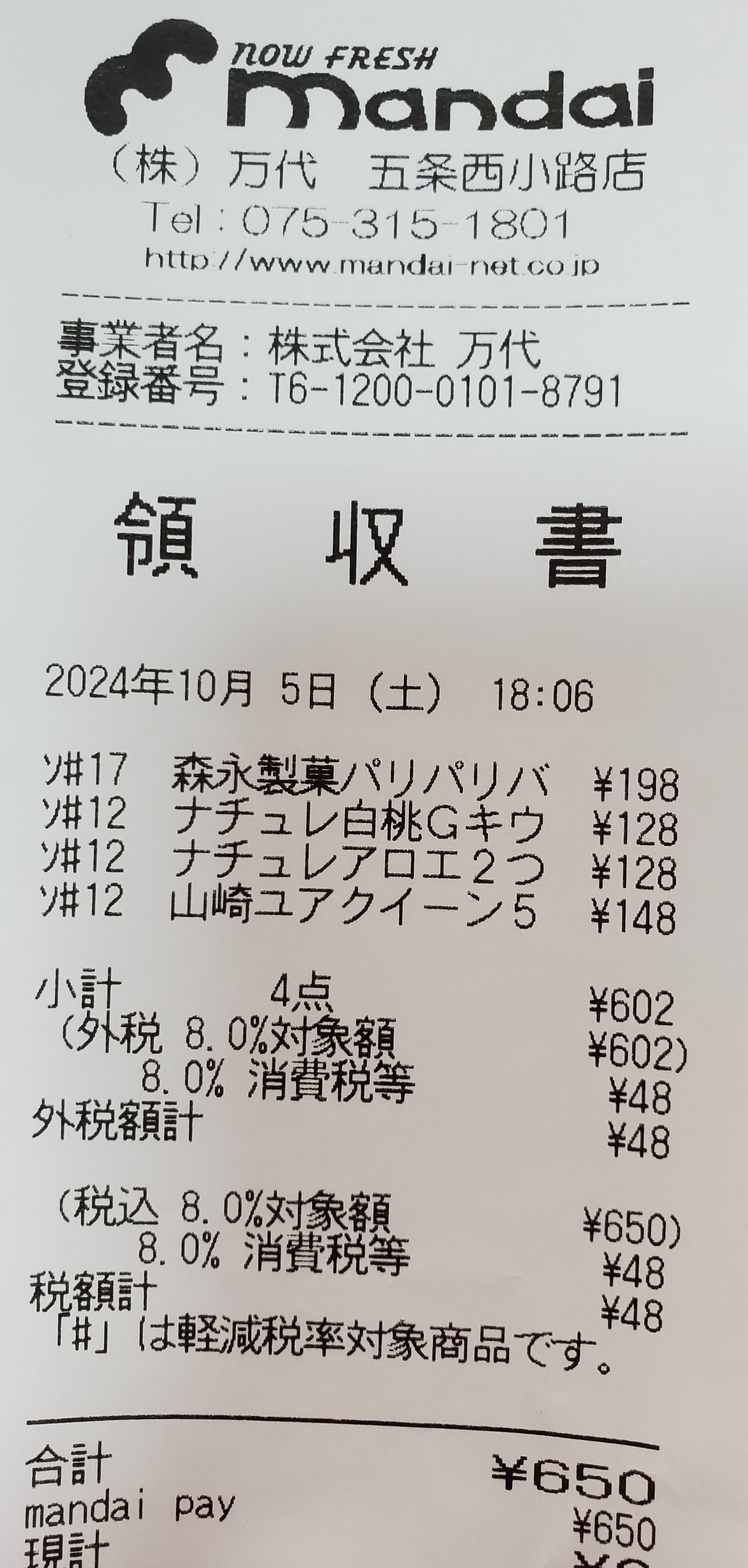Date: (43, 644, 354, 716)
Shopname: (214, 16, 703, 141)
Telnum: (234, 194, 583, 249)
Totalpay: (18, 1436, 686, 1500)
